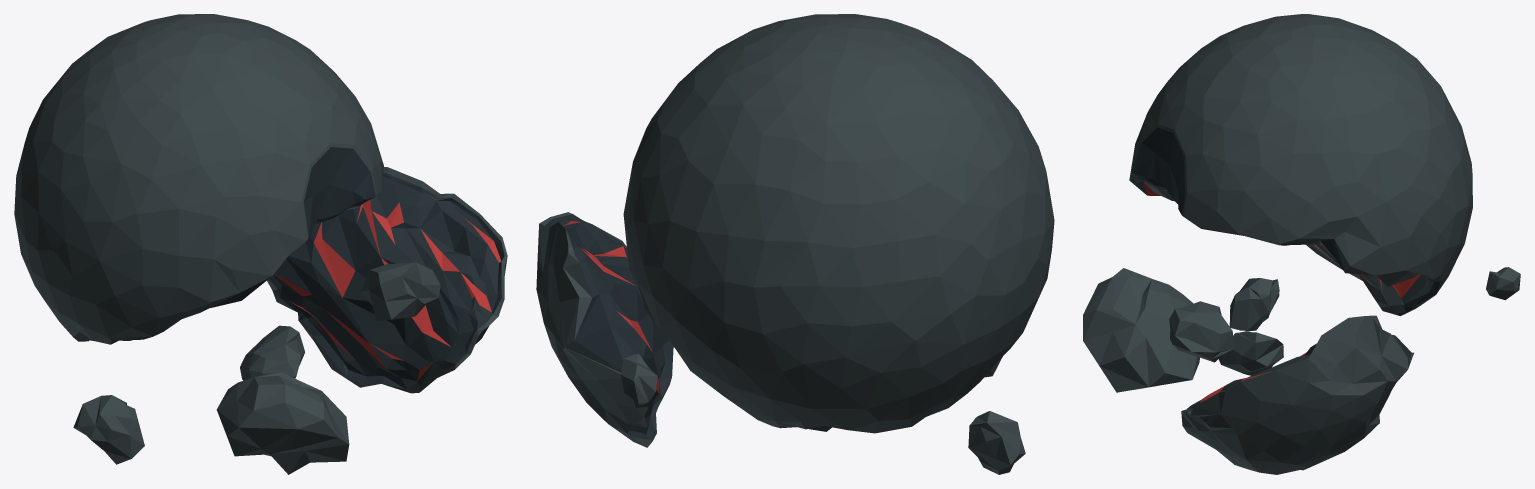
Rendered from Broken_Planet.fbx.
3 views of the same model, side by side, from view 1: azimuth 30°, elevation 25°; view 2: azimuth 150°, elevation 25°; view 3: azimuth 270°, elevation 25° (orthographic). The views are drawn at different scales.
Visible parts, largest first — view 1: Broken_Planet; view 2: Broken_Planet; view 3: Broken_Planet.
Part boxes in pixels (bbox=[...]): Broken_Planet: bbox=[14, 14, 507, 474]; Broken_Planet: bbox=[536, 14, 1054, 474]; Broken_Planet: bbox=[1083, 14, 1520, 474].
Bounding box in the file's own units: 24227 × 21281 × 23035.
